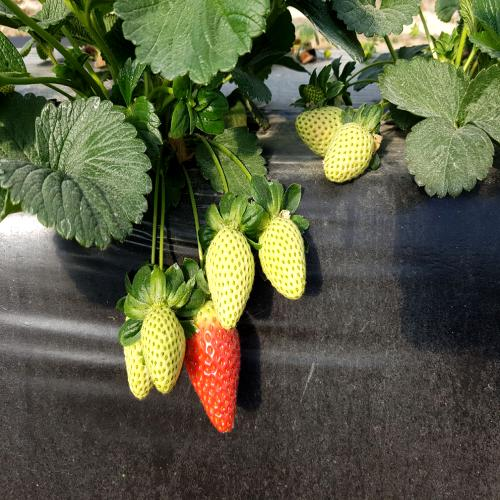unripe: (255, 197, 316, 314), (206, 224, 255, 336), (138, 298, 190, 395), (320, 118, 379, 190)
